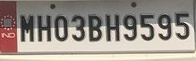character: (19, 14, 34, 42), (87, 14, 102, 42), (105, 14, 120, 42), (174, 12, 189, 40), (37, 14, 51, 42), (139, 14, 154, 40), (54, 15, 68, 42), (70, 14, 84, 41), (157, 13, 171, 40), (123, 14, 136, 41)
